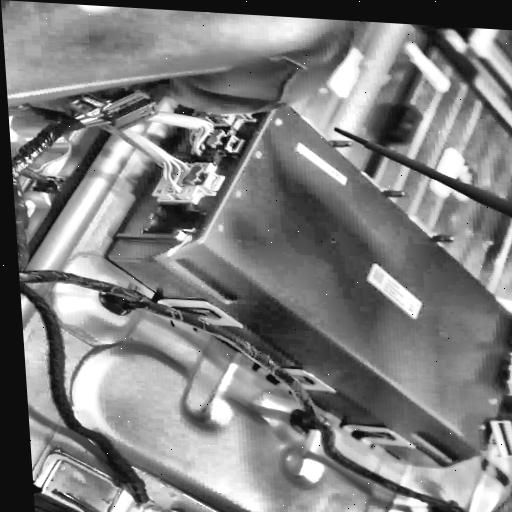bms_unit: (107, 90, 512, 470)
low_volt_cable: (9, 86, 487, 512)
